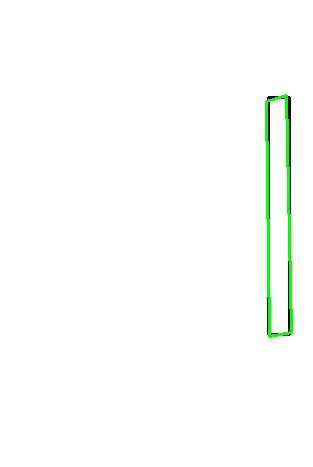line_segment: (266, 95, 292, 337)
